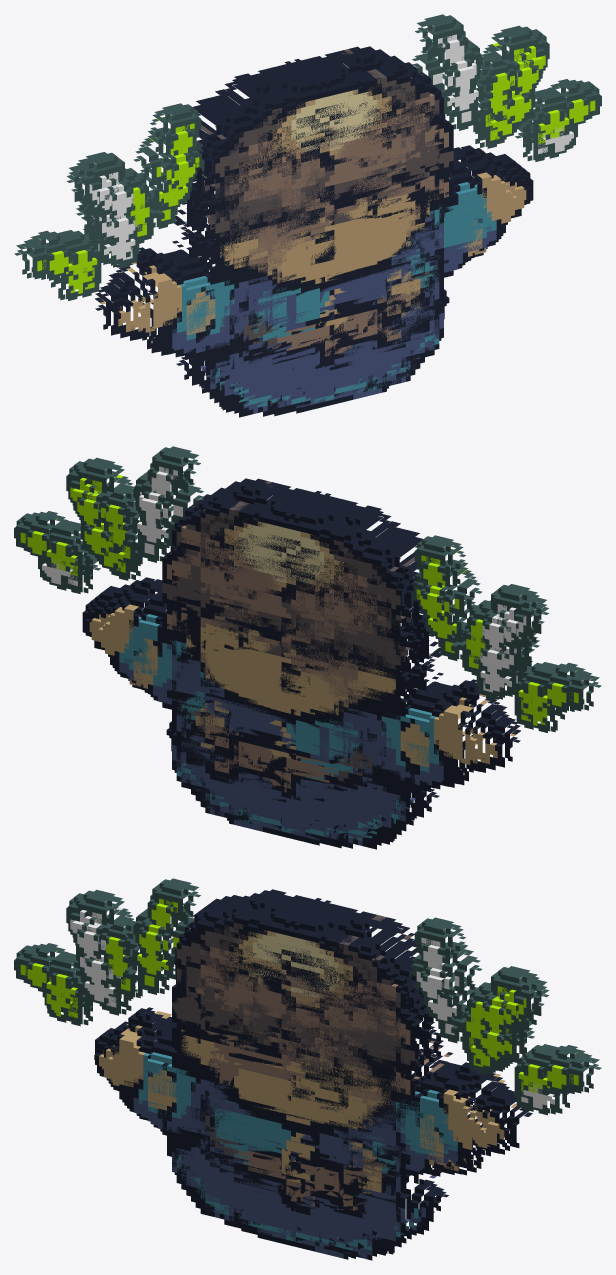
File: clerigo_golpe.glb
The picture shows the model from 3 angles, top to bottom: view 1: azimuth 30°, elevation 25°; view 2: azimuth 150°, elevation 25°; view 3: azimuth 330°, elevation 25°; orthographic projection.
Parts seen in each view (by area): view 1: q0, q2, q3, q1, q4, q10, q5, q6, q9, q7, q8; view 2: q0, q1, q2, q3, q4, q10, q5, q9, q6, q7, q8; view 3: q0, q2, q1, q3, q4, q10, q5, q9, q6, q7, q8.
Part boxes in pixels (x1,y1,x2,y2): q0: [186, 46, 443, 413]; q2: [87, 105, 550, 417]; q3: [48, 83, 571, 412]; q1: [143, 108, 487, 416]; q4: [24, 28, 590, 388]; q10: [177, 50, 449, 416]; q5: [14, 25, 601, 307]; q6: [46, 14, 571, 281]; q9: [76, 88, 535, 382]; q7: [83, 16, 521, 265]; q8: [76, 96, 535, 246]; q0: [172, 478, 429, 845]; q1: [128, 540, 472, 848]; q2: [65, 537, 528, 849]; q3: [44, 515, 567, 844]; q4: [25, 460, 591, 813]; q10: [166, 482, 438, 848]; q5: [14, 457, 601, 740]; q9: [80, 520, 539, 814]; q6: [45, 446, 569, 713]; q7: [92, 448, 532, 697]; q8: [80, 528, 539, 678]; q0: [186, 889, 443, 1257]; q2: [65, 945, 532, 1260]; q1: [148, 946, 485, 1257]; q3: [44, 922, 555, 1252]; q4: [25, 892, 591, 1243]; q10: [174, 890, 448, 1259]; q5: [14, 889, 601, 1158]; q9: [76, 946, 531, 1235]; q6: [44, 878, 569, 1095]; q7: [82, 881, 519, 1072]; q8: [76, 949, 534, 1063].
Bounding box in the file's own units: 121 × 69 × 14.
Materials: 1 (1 with a texture image).
